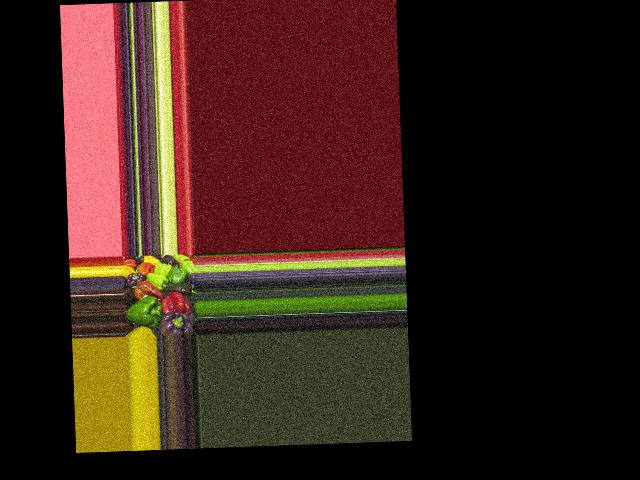bell_pepper: (124, 269, 145, 287)
